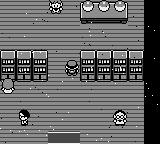main: (64, 60, 78, 76)
no-caminable: (144, 0, 160, 144), (81, 51, 143, 82), (0, 51, 47, 82), (81, 3, 128, 24)
npc: (112, 111, 128, 126), (1, 77, 15, 94), (48, 0, 64, 14), (18, 110, 30, 126)
poke-ball: (98, 0, 110, 12), (82, 0, 94, 12), (114, 0, 126, 11)
puerta: (45, 128, 84, 144)
